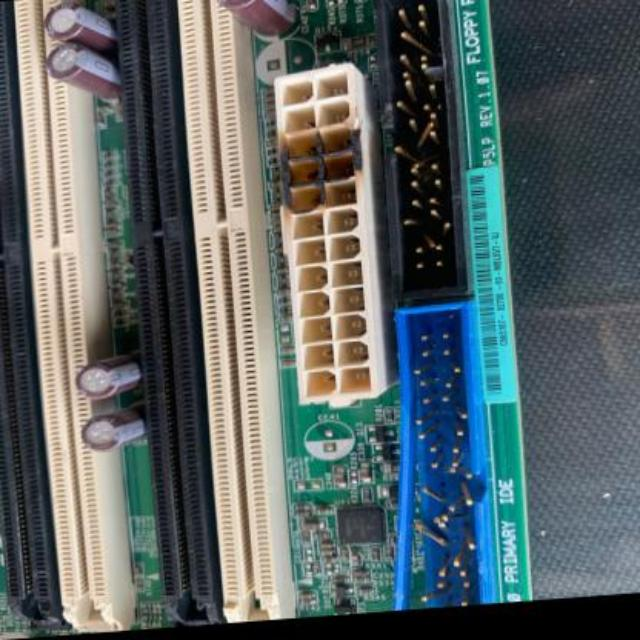PCB: (4, 0, 556, 636)
